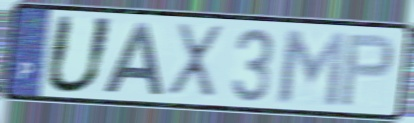3: (229, 26, 276, 103)
A: (100, 20, 165, 97)
M: (276, 26, 349, 109)
P: (337, 32, 397, 109)
U: (41, 11, 118, 97)
X: (164, 20, 226, 103)
